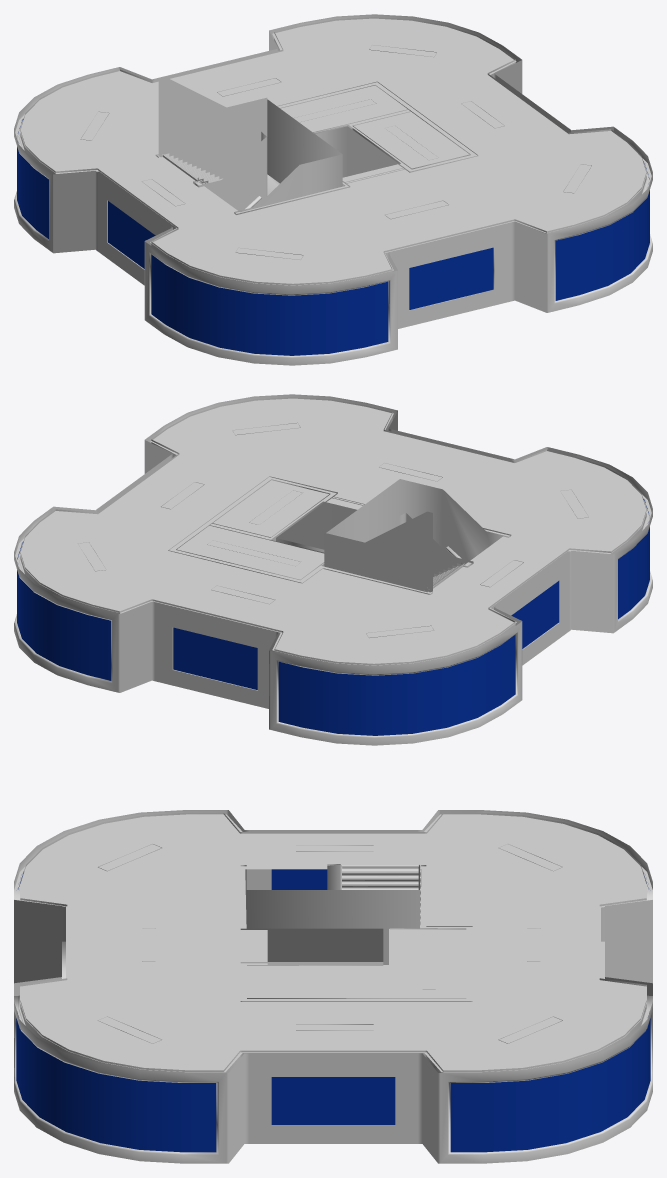
File: E_middle.fbx
3 renders of one model, top to bottom at view 1: azimuth 30°, elevation 25°; view 2: azimuth 150°, elevation 25°; view 3: azimuth 270°, elevation 25°, orthographic. The views are drawn at different scales.
Parts seen in each view (by area): view 1: E_middle, E_middle_outwall, E_middle_glass; view 2: E_middle, E_middle_outwall, E_middle_glass; view 3: E_middle, E_middle_outwall, E_middle_glass.
Part boxes in pixels (x1,y1,x2,y2): E_middle: (15,17,651,310); E_middle_outwall: (14,14,652,365); E_middle_glass: (17,119,649,355); E_middle: (15,397,651,690); E_middle_outwall: (14,394,652,745); E_middle_glass: (17,499,649,735); E_middle: (14,812,652,1125); E_middle_outwall: (14,810,652,1163); E_middle_glass: (16,869,650,1152).
Bounding box in the file's own units: 36.18 × 15.02 × 37.17.
